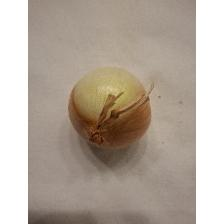Zwiebel: (66, 64, 156, 154)
